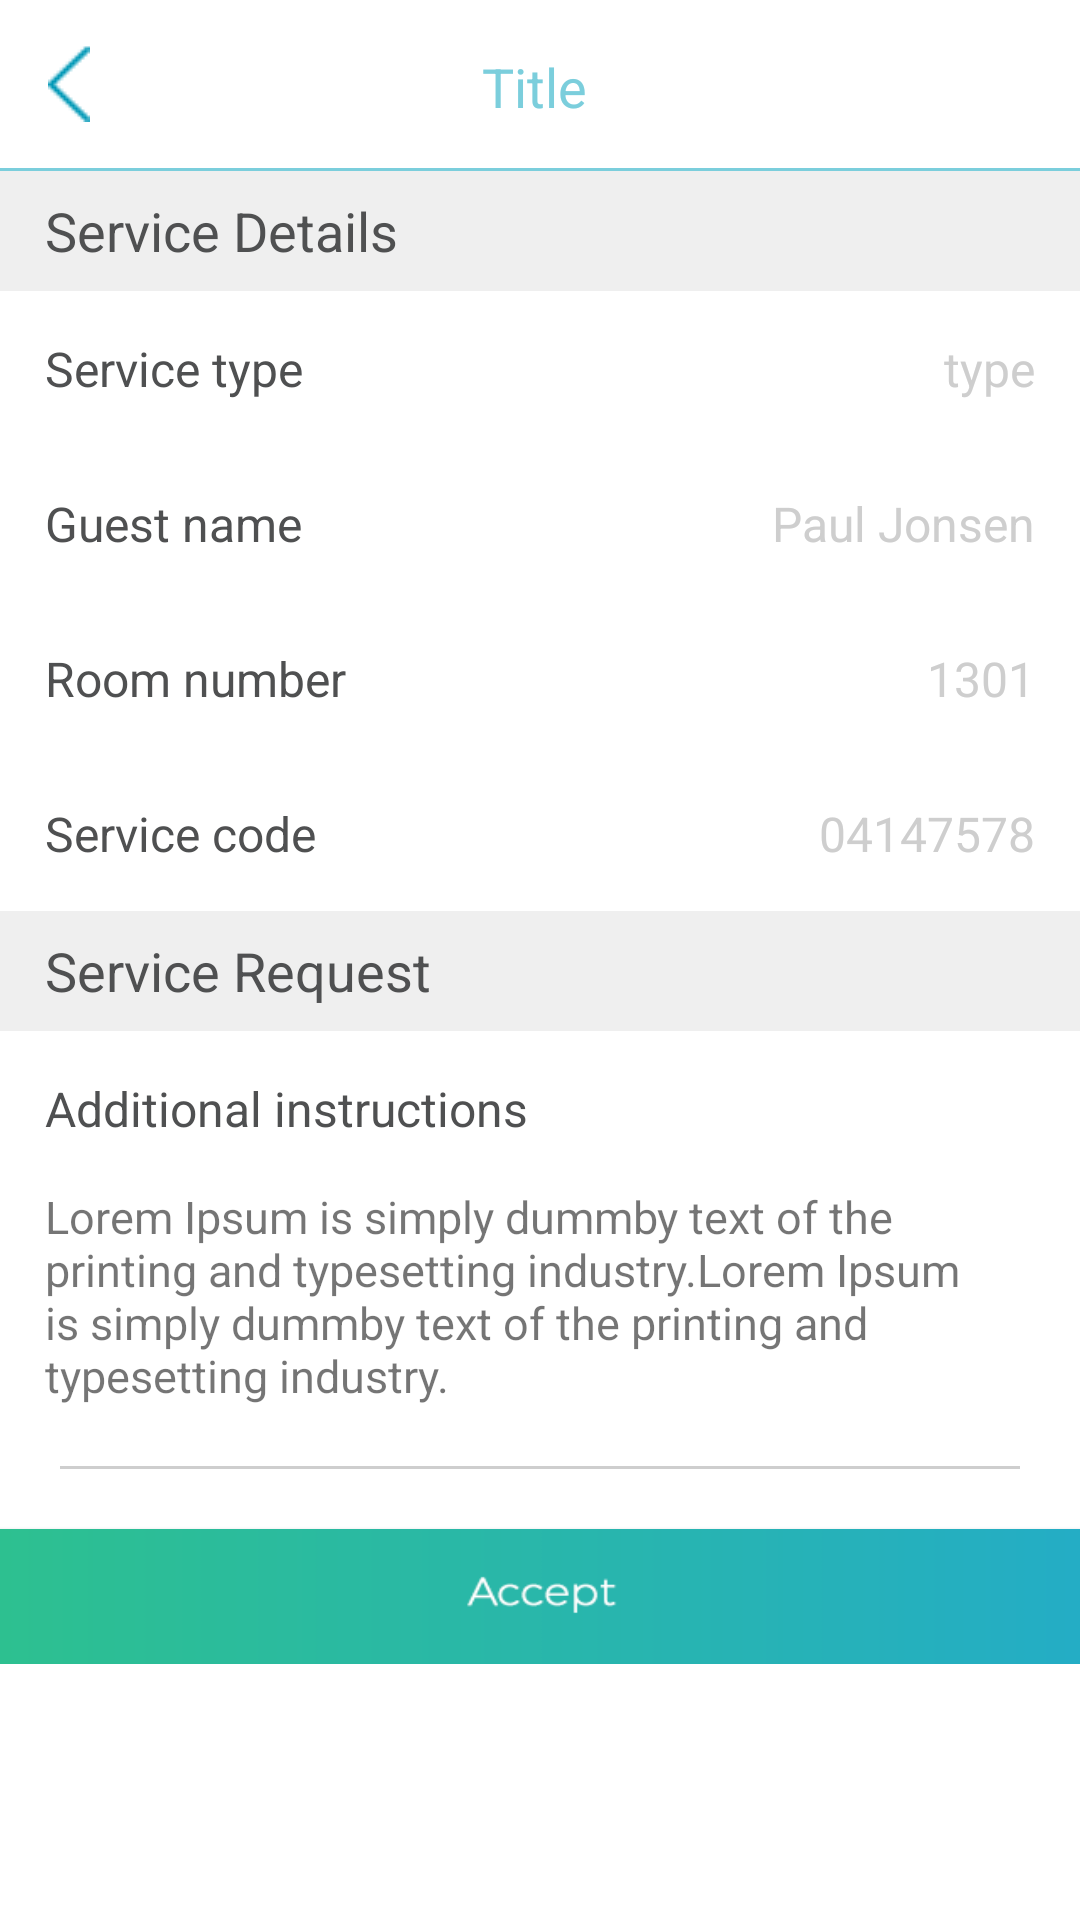

Icons on this 1080 × 1920 Android screen, each with the point to tap as point (x, y):
left arrow: point (69, 84)
